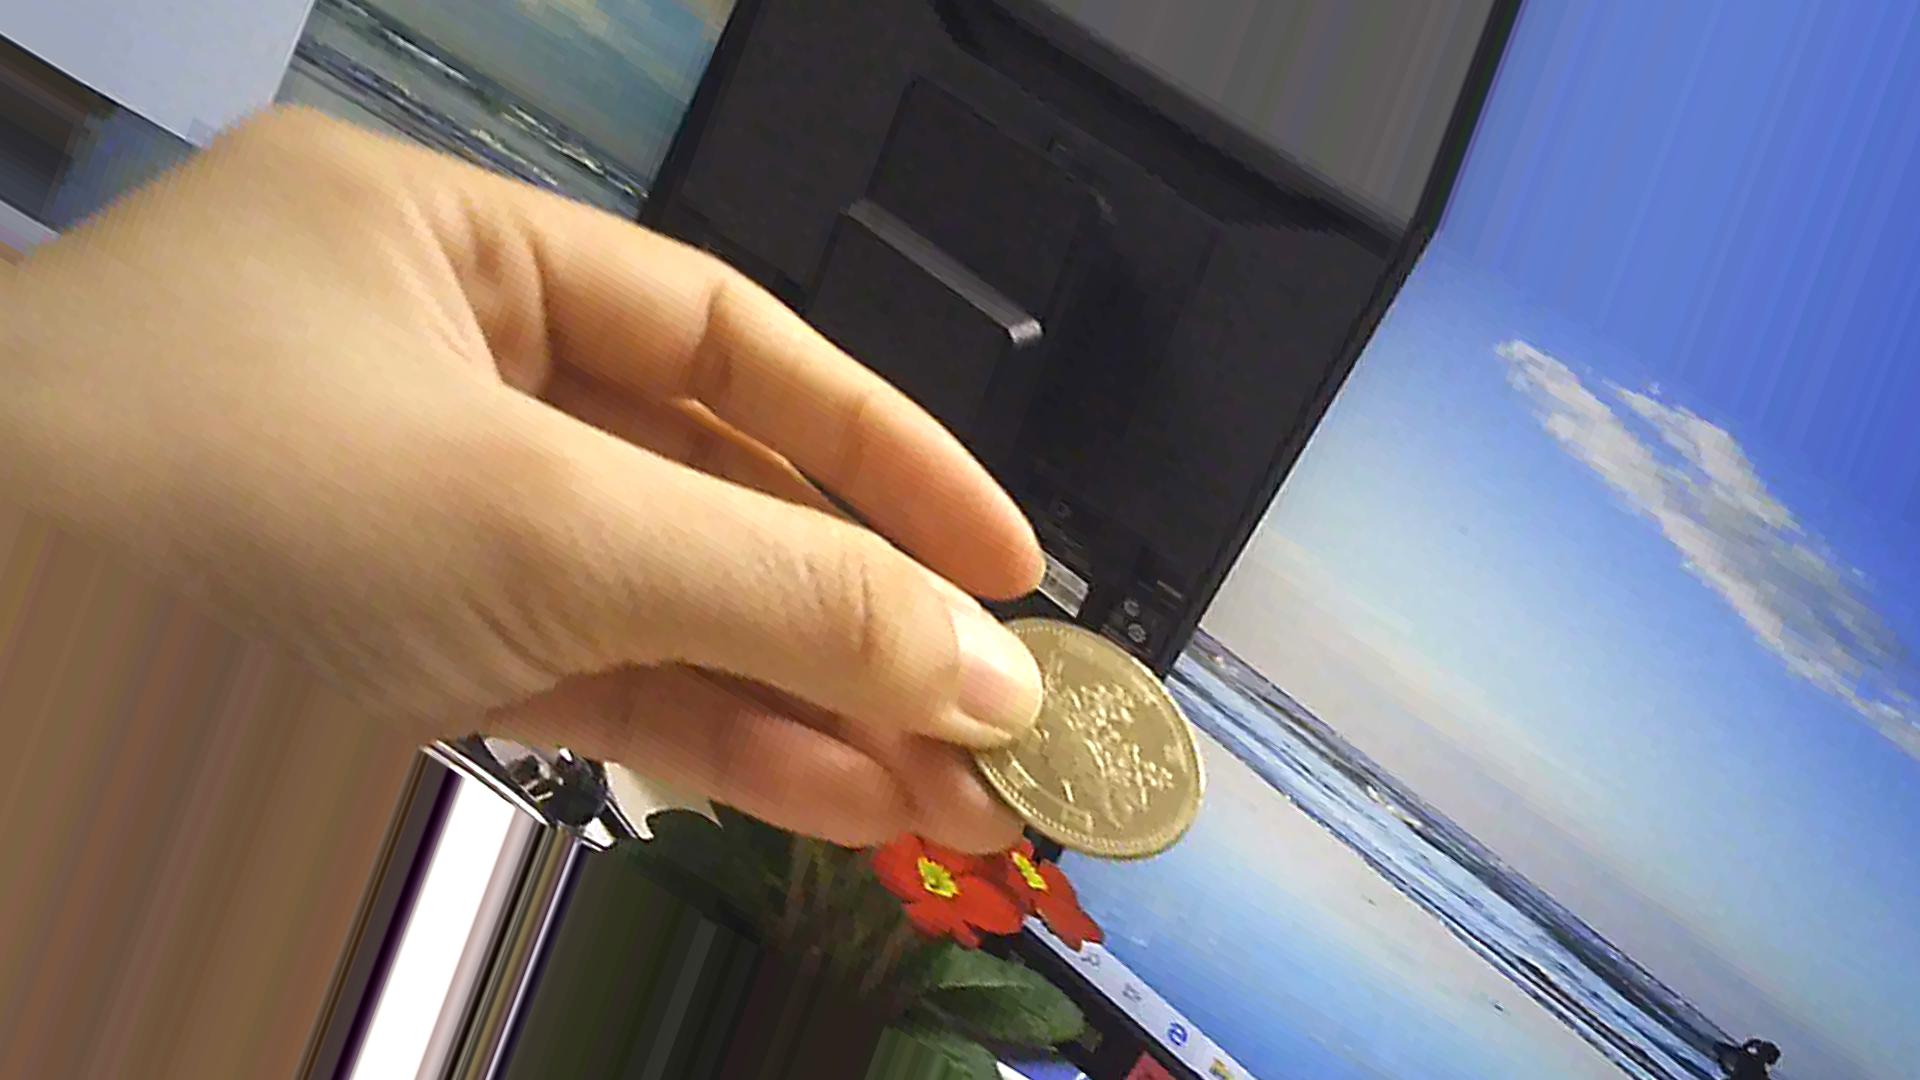500 Yen: (945, 618, 1216, 866)
